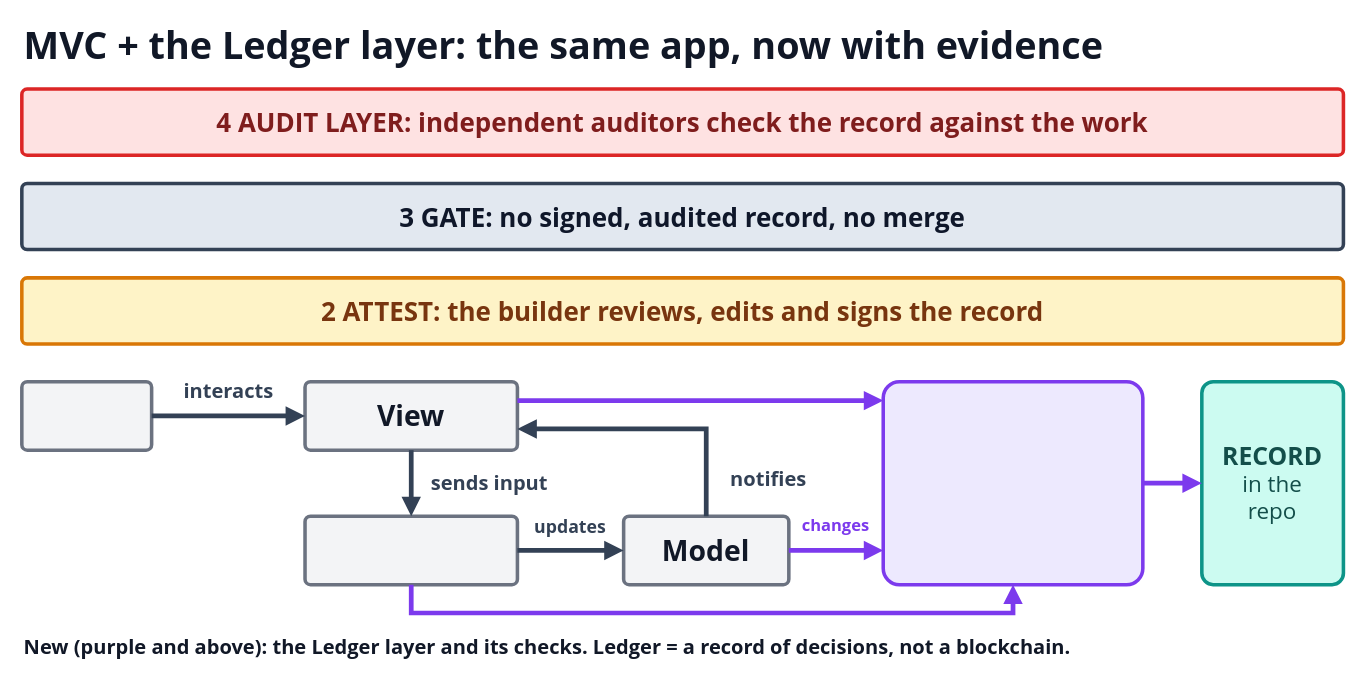
This 1365x684 diagram has some shape labels left out. Here are the shapes that lost their labels. From the top down, the centre of each, then its label:
At pixel 86 415: "User".
At pixel 1012 482: "1 LEDGER LAYER drafts the record, diagram update, spec link and a hash".
At pixel 411 550: "Controller".
